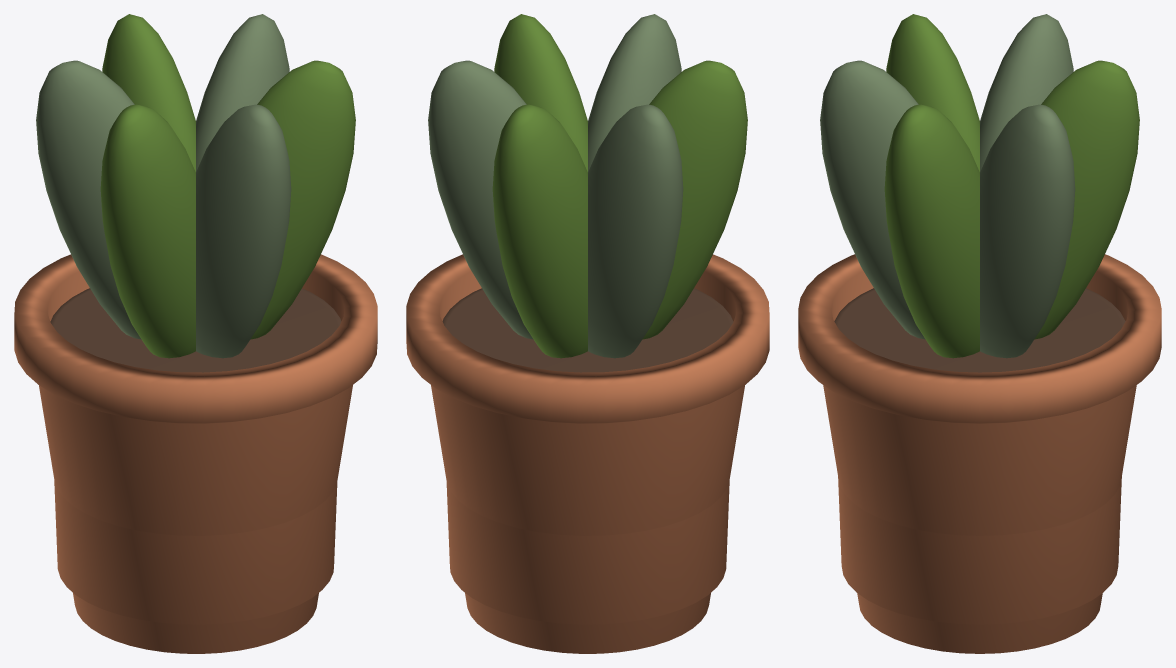
The model's file is planter.obj.
3 renders of one model, left to right at view 1: azimuth 30°, elevation 25°; view 2: azimuth 150°, elevation 25°; view 3: azimuth 270°, elevation 25°, orthographic.
Visible parts, largest first — view 1: planter_terracotta, planter_sageDark, planter_leaf, planter_cocoa; view 2: planter_terracotta, planter_sageDark, planter_leaf, planter_cocoa; view 3: planter_terracotta, planter_sageDark, planter_leaf, planter_cocoa.
Part boxes in pixels (bbox=[...]): planter_terracotta: bbox=[14, 254, 377, 653]; planter_sageDark: bbox=[36, 14, 291, 358]; planter_leaf: bbox=[100, 14, 355, 358]; planter_cocoa: bbox=[50, 288, 341, 372]; planter_terracotta: bbox=[406, 254, 769, 653]; planter_sageDark: bbox=[428, 14, 683, 358]; planter_leaf: bbox=[492, 14, 747, 358]; planter_cocoa: bbox=[442, 288, 733, 372]; planter_terracotta: bbox=[798, 254, 1161, 653]; planter_sageDark: bbox=[820, 14, 1075, 358]; planter_leaf: bbox=[884, 14, 1139, 358]; planter_cocoa: bbox=[834, 288, 1125, 372].
Size of the model in its own units: 0.36 by 0.5901 by 0.36.
